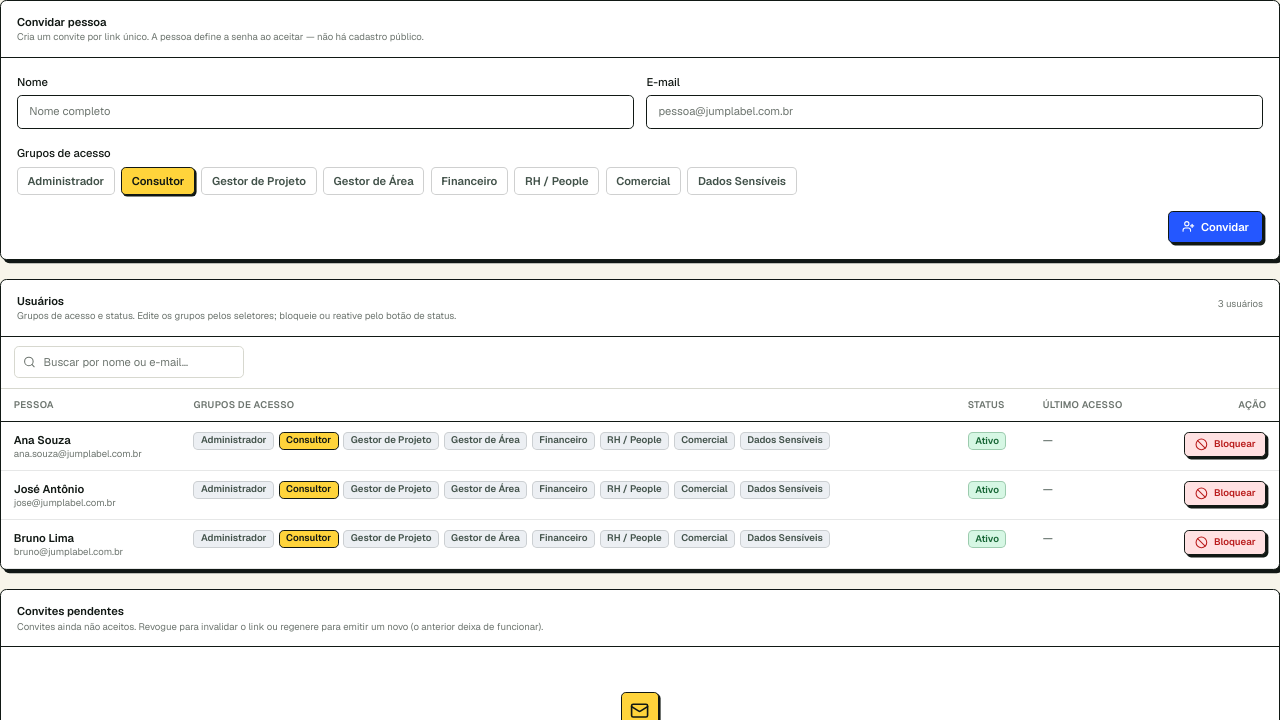
Test case: AccessAdminView — filtro de usuários › sem correspondência, o vazio NÃO convida a cadastrar ninguém
Type "zzzz" into the search field named "Buscar usuário por nome ou e-mail" at (129, 362), box top-left (14, 346), bottom-right (244, 378)
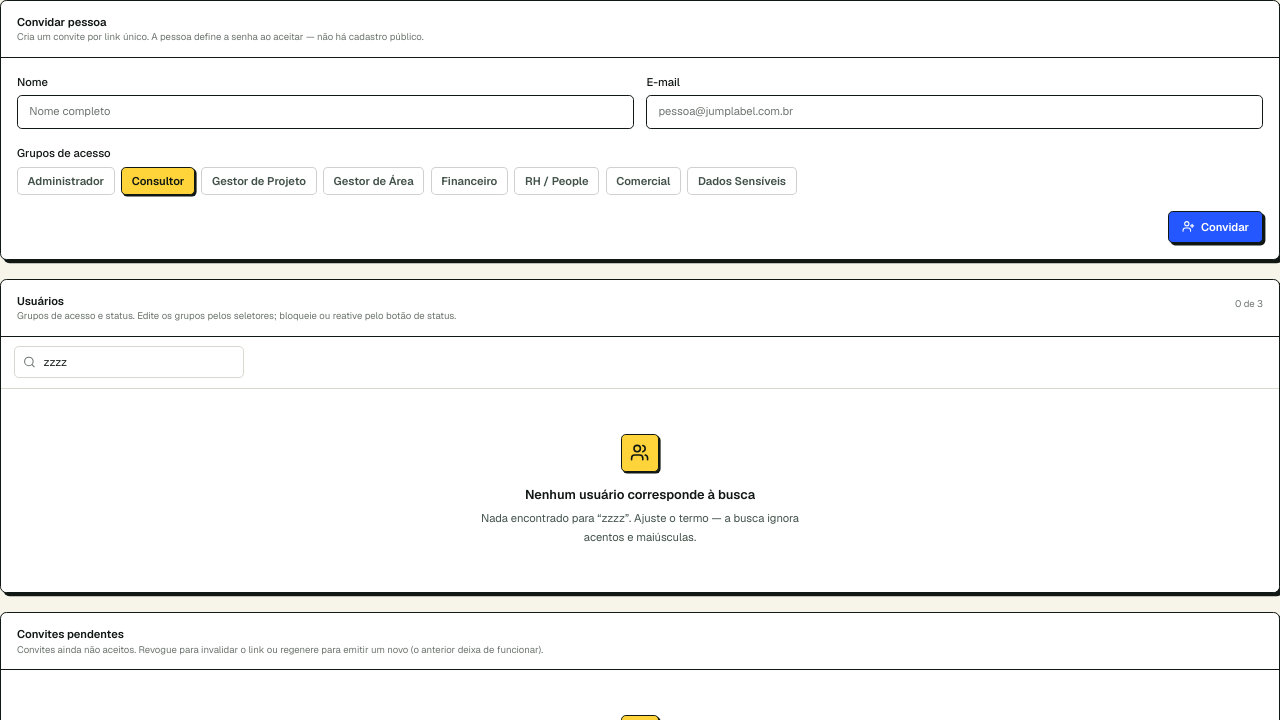
Expected: the heading "Nenhum usuário corresponde à busca" is shown, top-left (525, 485), bottom-right (755, 504)
Expected: the table is gone
